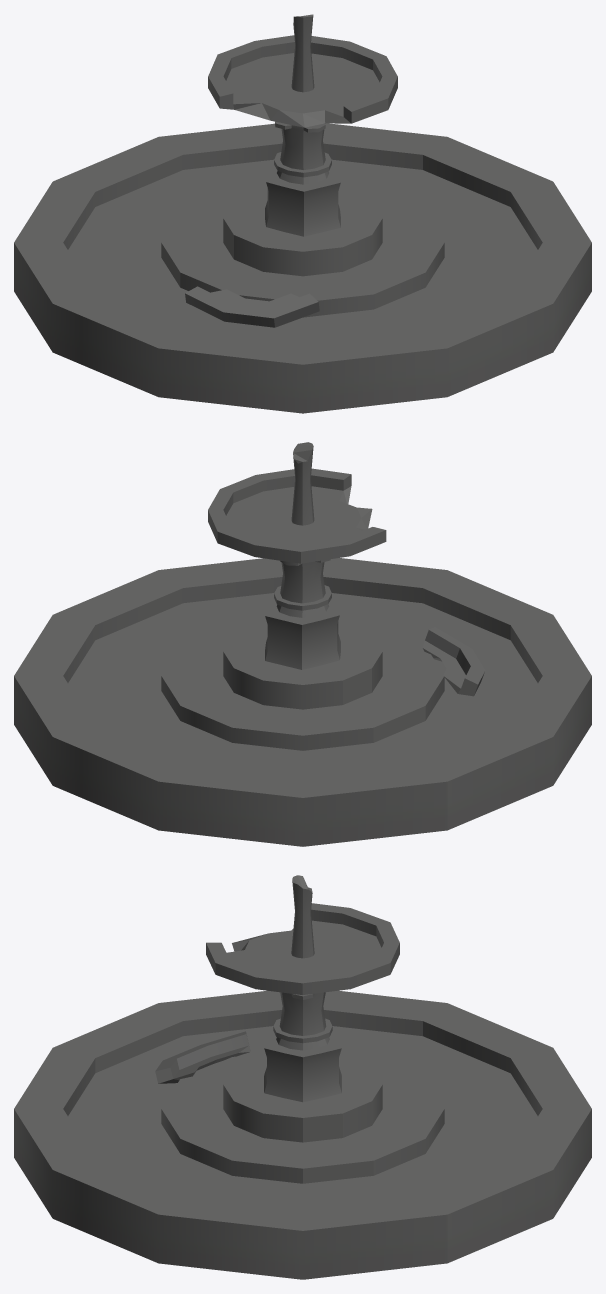
The model's file is Fountain.fbx.
3 views of the same model, one above another, from view 1: azimuth 30°, elevation 25°; view 2: azimuth 150°, elevation 25°; view 3: azimuth 270°, elevation 25° (orthographic).
Visible parts, largest first — view 1: Fountain; view 2: Fountain; view 3: Fountain.
Boxes of the visible parts, bbox=[...] form: Fountain: bbox=[14, 14, 591, 413]; Fountain: bbox=[14, 442, 591, 846]; Fountain: bbox=[14, 875, 591, 1279].
Size of the model in its own units: 286 by 152 by 286.
